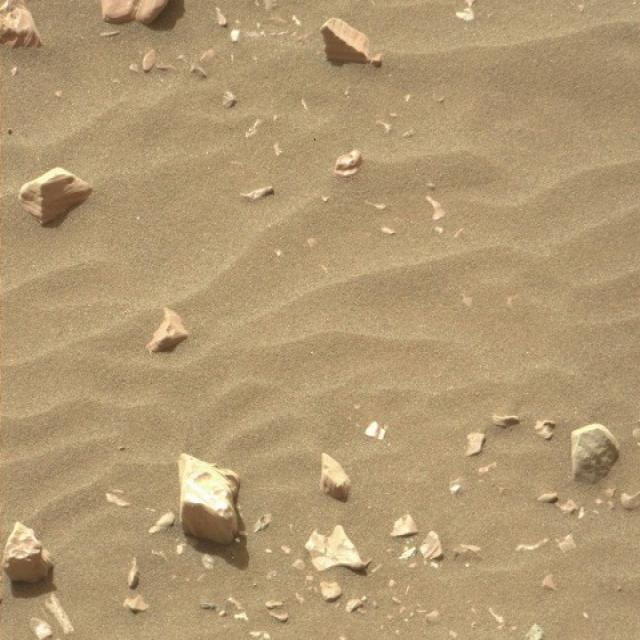rock: (176, 451, 247, 547), (20, 162, 96, 228), (4, 520, 57, 590), (568, 424, 624, 479), (323, 14, 376, 67), (98, 0, 178, 26), (322, 456, 352, 496)
